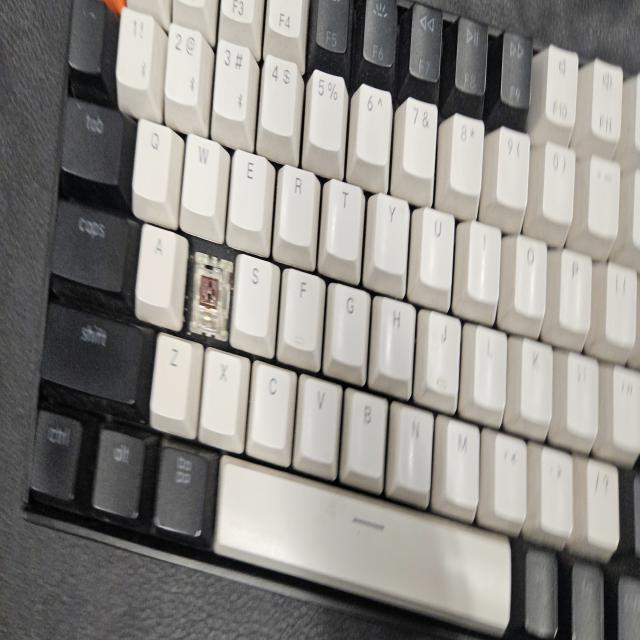C: (193, 266, 222, 328)
